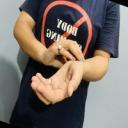hand: (32, 61, 84, 105), (42, 35, 85, 68)
